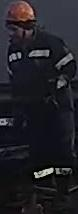helmet: (2, 0, 37, 26)
vest: (0, 31, 71, 101)
